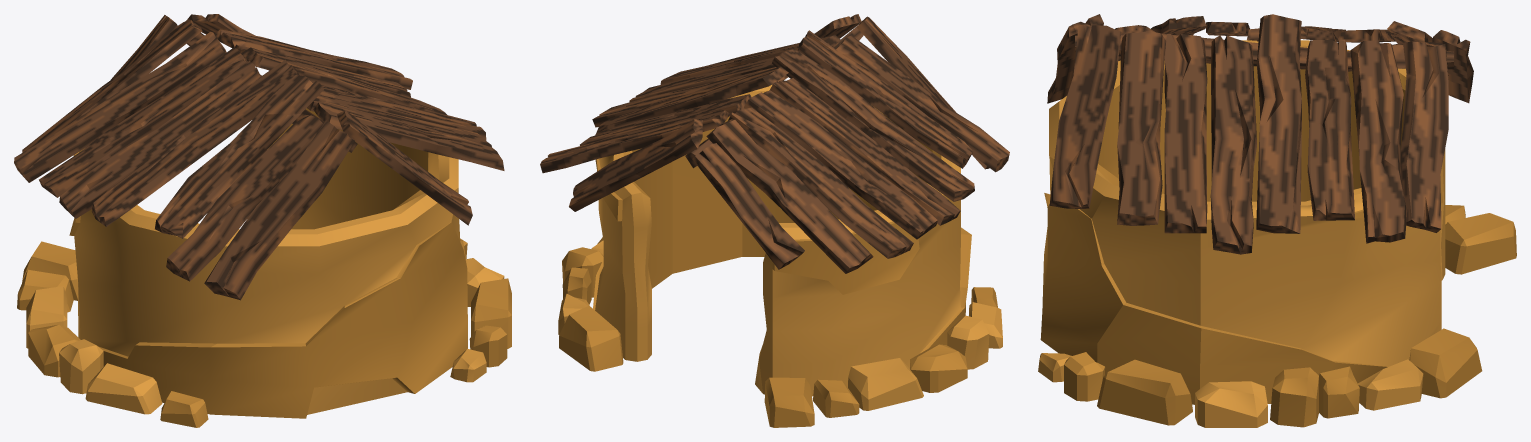
Rendered from Building_S1.fbx.
3 views of the same model, side by side, from view 1: azimuth 30°, elevation 25°; view 2: azimuth 150°, elevation 25°; view 3: azimuth 270°, elevation 25° (orthographic). The views are drawn at different scales.
Visible parts, largest first — view 1: Hut; view 2: Hut; view 3: Hut.
Part boxes in pixels (x1=…): Hut: x1=14, y1=14, x2=511, y2=427; Hut: x1=540, y1=14, x2=1009, y2=427; Hut: x1=1038, y1=14, x2=1516, y2=427.
Size of the model in its own units: 257 by 163 by 232.
